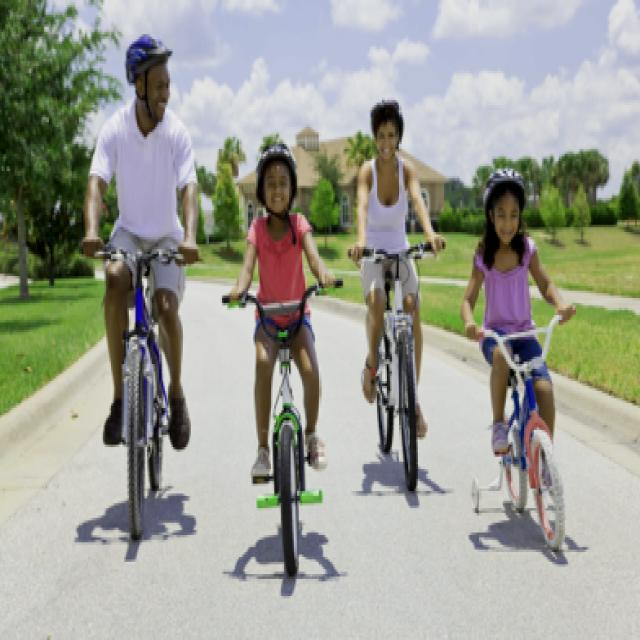Helmet: (472, 158, 534, 254), (356, 80, 408, 184), (122, 27, 174, 122), (251, 140, 299, 222)
